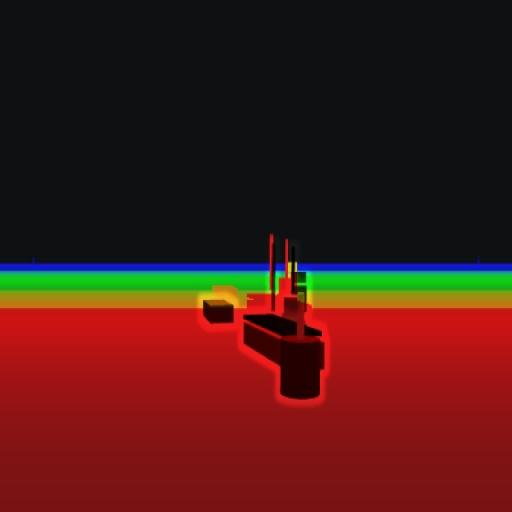debris_container: (202, 294, 236, 328)
floating_obstacle: (280, 291, 322, 402)
